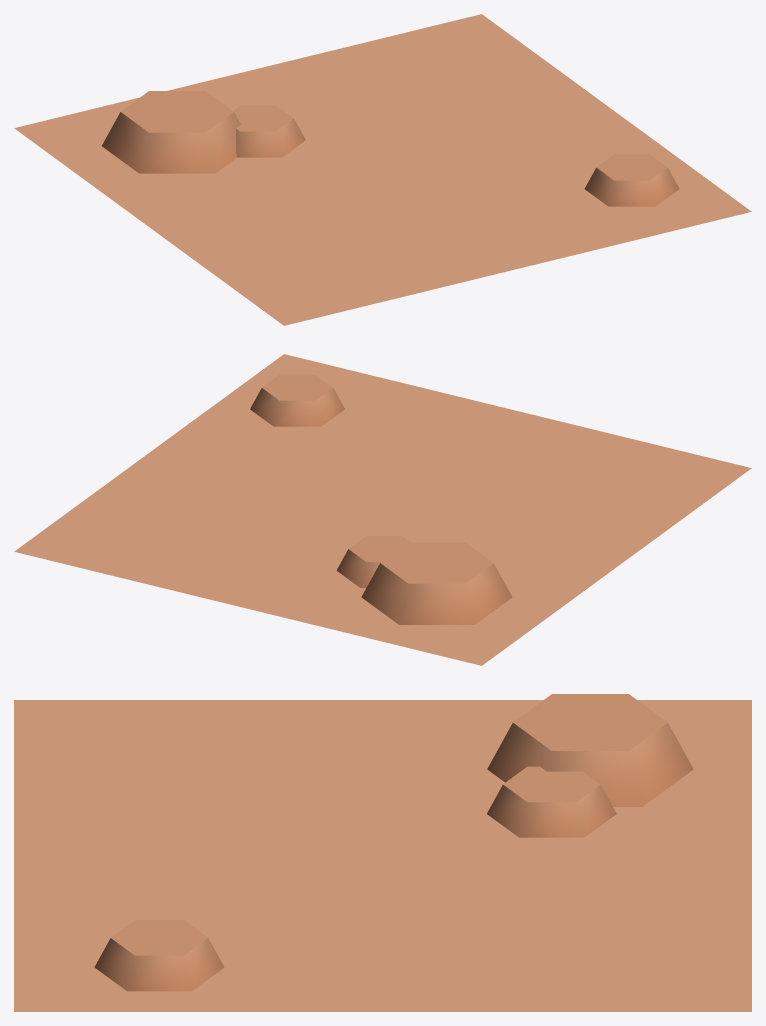
File: floor-detail.glb
3 views of the same model, one above another, from view 1: azimuth 30°, elevation 25°; view 2: azimuth 150°, elevation 25°; view 3: azimuth 270°, elevation 25° (orthographic). The views are drawn at different scales.
Visible parts, largest first — view 1: floor-detail; view 2: floor-detail; view 3: floor-detail.
Boxes of the visible parts, x1,y1,x2,y2 form: floor-detail: [14, 14, 751, 325]; floor-detail: [14, 354, 751, 665]; floor-detail: [14, 694, 751, 1011].
Bounding box in the file's own units: 1 × 0.07 × 1.
1 material, 1 textured.
